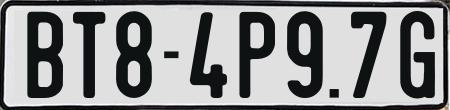4: (187, 11, 227, 102)
7: (349, 11, 390, 99)
8: (114, 11, 150, 101)
9: (286, 8, 326, 96)
B: (25, 10, 61, 96)
G: (399, 8, 437, 100)
P: (236, 9, 272, 98)
T: (72, 12, 106, 99)
